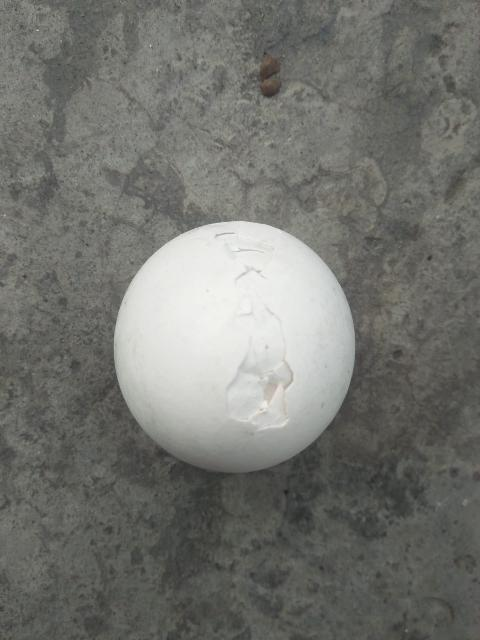Roto: (112, 219, 356, 474)
